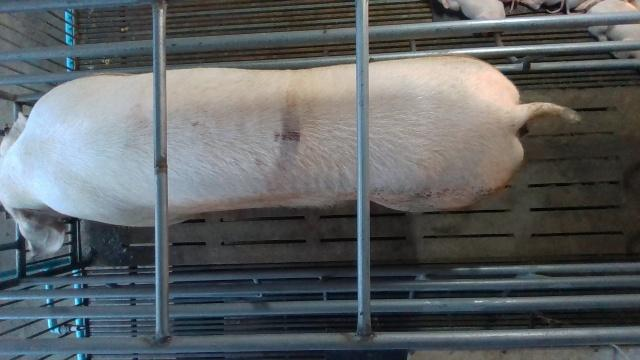piglet: (585, 0, 640, 58), (439, 0, 505, 21)
sow-stand-feed: (0, 56, 581, 257)
